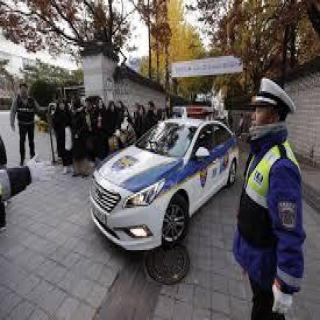Police_car: (90, 105, 240, 247)
